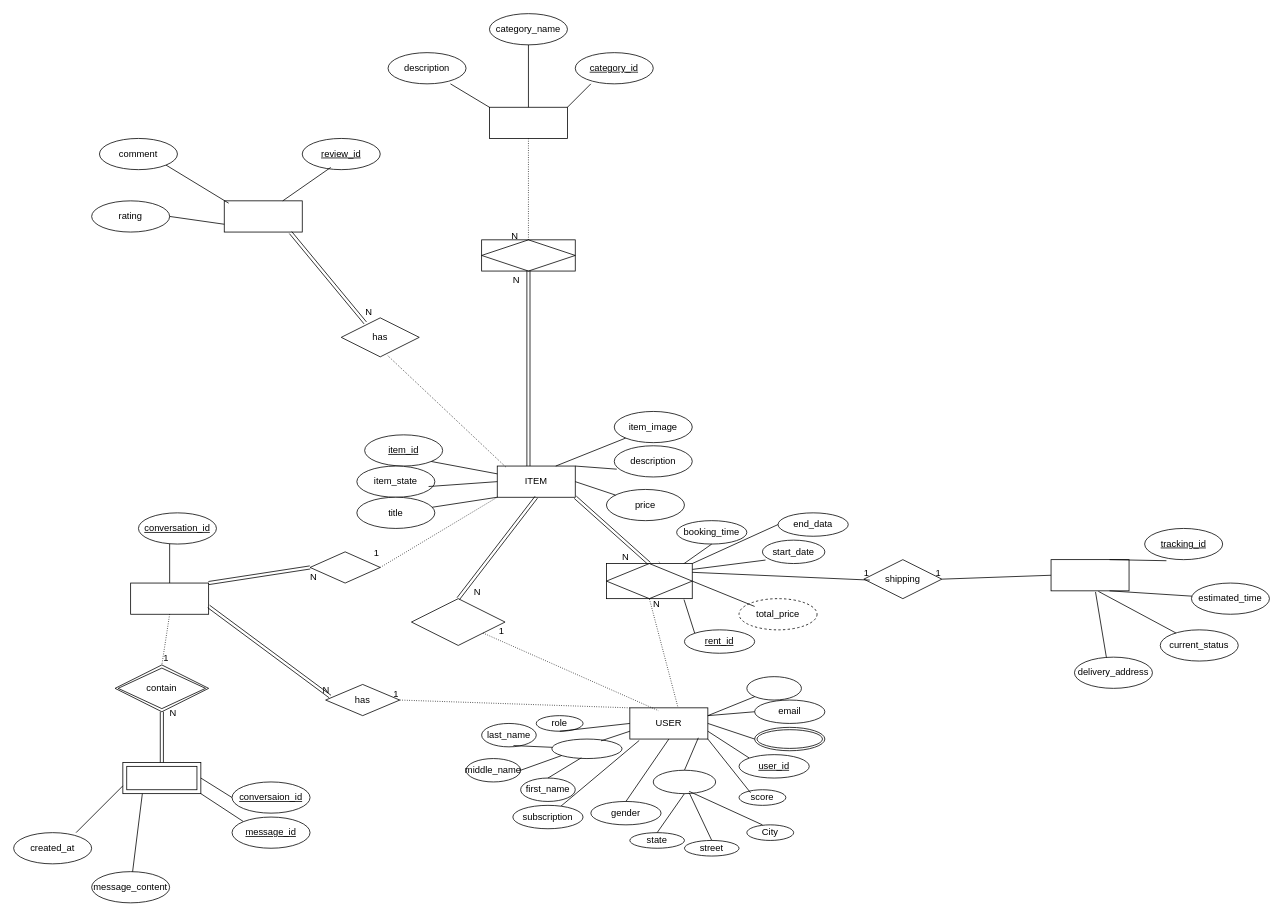
The diagram is 1283 pixels wide and 916 high, and some of its shapes have lost their labels. Each missing label, with the centre of its shape:
address: point 684,781
CATEGORY: point 528,122
CONVERSATION: point 169,598
for: point 344,567
item_category: point 528,255
message: point 161,778
name: point 586,748
owen: point 458,621
password: point 773,688
phone_num: point 789,739
rent: point 649,581
REVIEW: point 262,216
TRACKING DETAILS: point 1089,575
